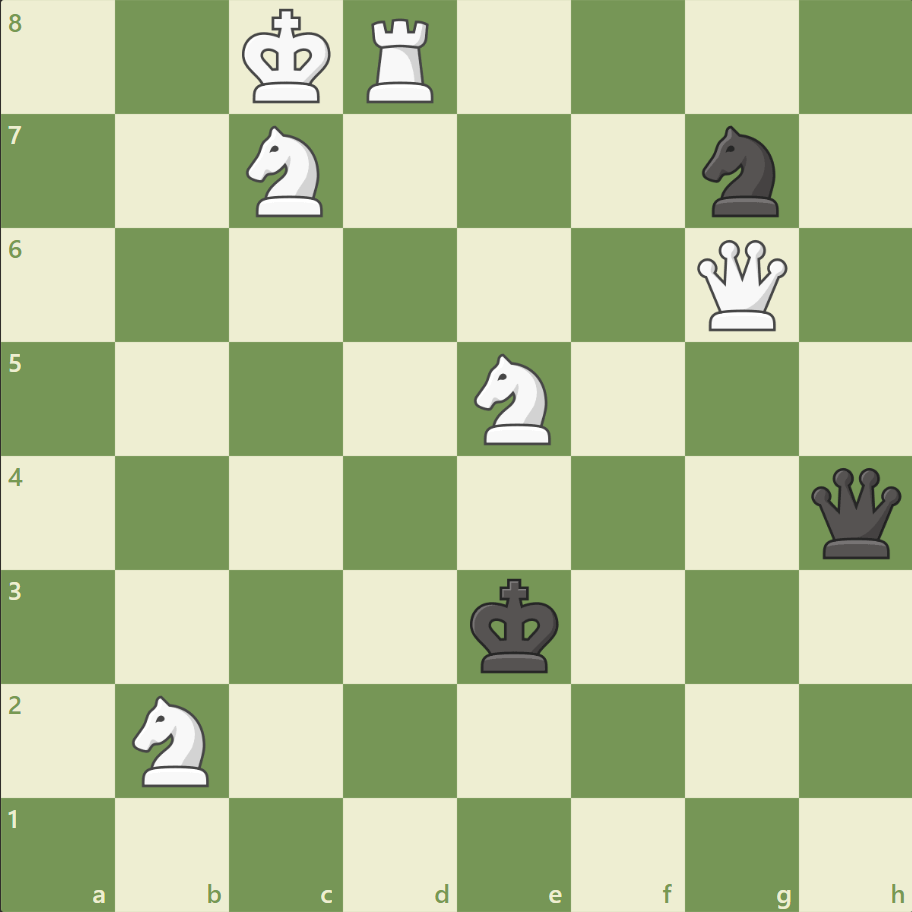K: (238, 4, 338, 112)
N: (124, 688, 222, 791), (238, 121, 335, 223), (465, 348, 562, 450)
Q: (691, 236, 790, 335)
R: (360, 12, 442, 109)
k: (465, 571, 565, 679)
n: (692, 121, 789, 223)
q: (805, 463, 904, 562)
